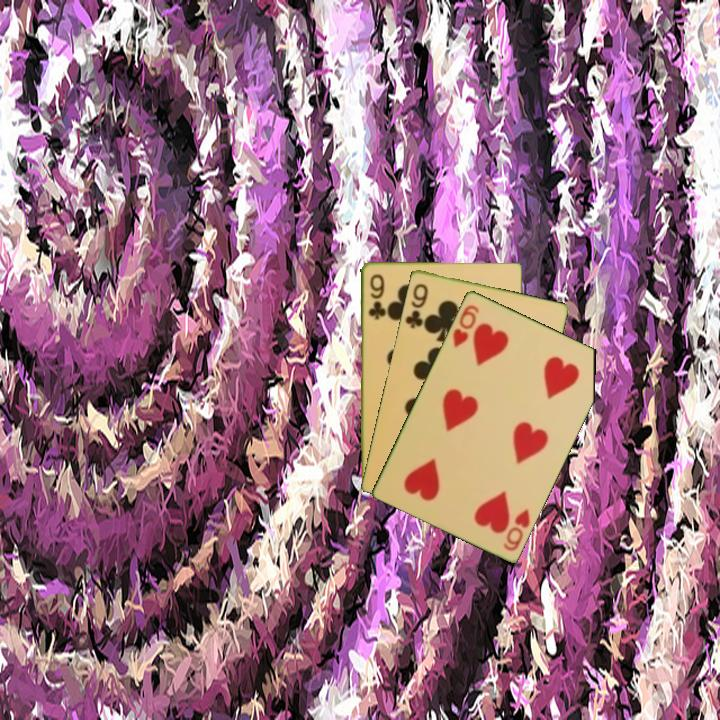6h: (449, 301, 482, 350), (500, 505, 533, 553)
9c: (401, 280, 431, 331), (365, 271, 386, 321)
